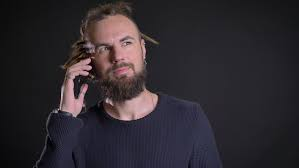white_male: (81, 21, 145, 97)
